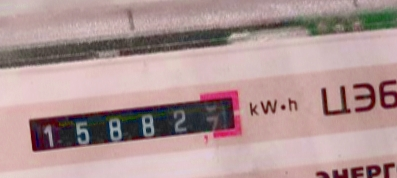1: (39, 122, 55, 151)
2: (169, 108, 188, 137)
5: (71, 120, 91, 148)
7: (202, 115, 219, 133)
8: (103, 116, 122, 146), (137, 112, 155, 141)
screen: (12, 83, 252, 168)
